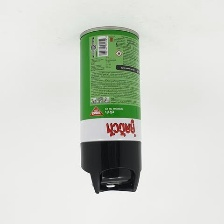aerosol_cans: (76, 23, 144, 196)
